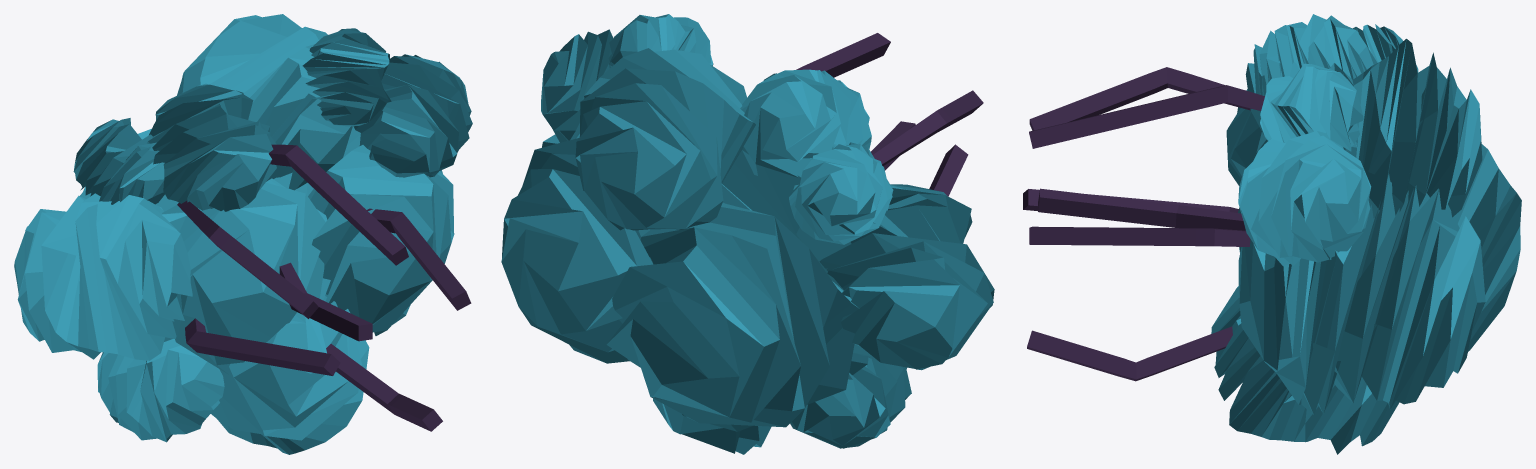
Rendered from bushes.fbx.
3 views of the same model, side by side, from view 1: azimuth 30°, elevation 25°; view 2: azimuth 150°, elevation 25°; view 3: azimuth 270°, elevation 25° (orthographic). The views are drawn at different scales.
Visible parts, largest first — view 1: Cube.011; view 2: Cube.011; view 3: Cube.011.
Part boxes in pixels (box(x1,y1,x2,y2)): Cube.011: box(14, 14, 472, 454); Cube.011: box(501, 14, 994, 454); Cube.011: box(1023, 14, 1521, 454).
Size of the model in its own units: 132 by 112 by 122.
